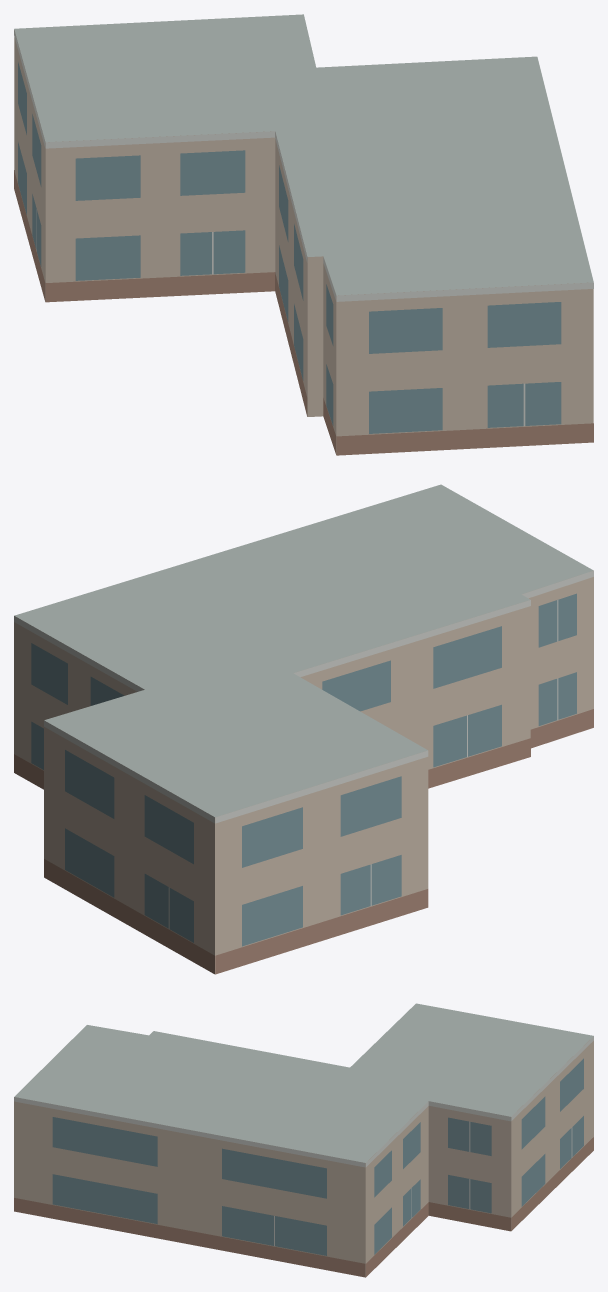
File: survey-upis-32561182.glb
3 renders of one model, top to bottom at view 1: azimuth 30°, elevation 25°; view 2: azimuth 150°, elevation 25°; view 3: azimuth 270°, elevation 25°, orthographic. The views are drawn at different scales.
Visible parts, largest first — view 1: survey-upis-32561182.tmp; view 2: survey-upis-32561182.tmp; view 3: survey-upis-32561182.tmp.
Part boxes in pixels (box(x1,y1,x2,y2)): survey-upis-32561182.tmp: box(14, 14, 593, 455); survey-upis-32561182.tmp: box(14, 484, 593, 974); survey-upis-32561182.tmp: box(14, 1003, 593, 1277).
Size of the model in its own units: 18.24 by 6.1 by 27.99.
